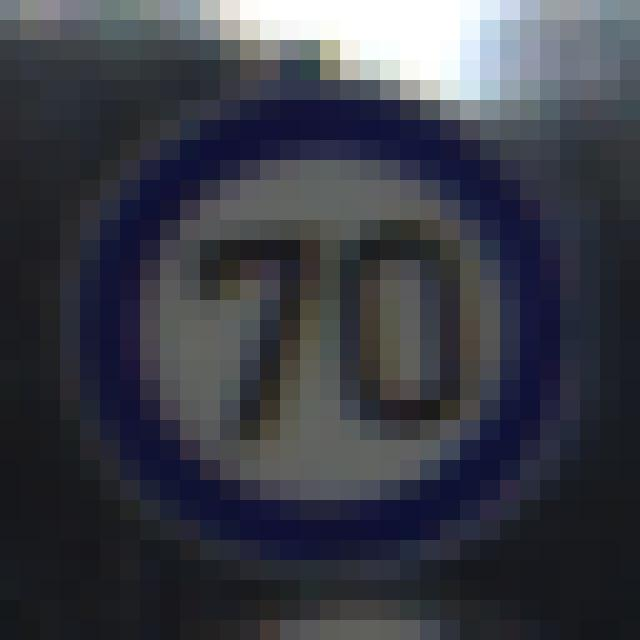SPEED LIMIT 70: (49, 89, 581, 568)
